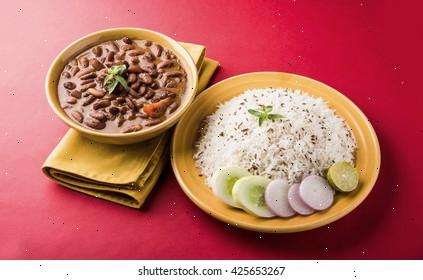rajma: (57, 43, 189, 129)
rice: (211, 89, 355, 165)
